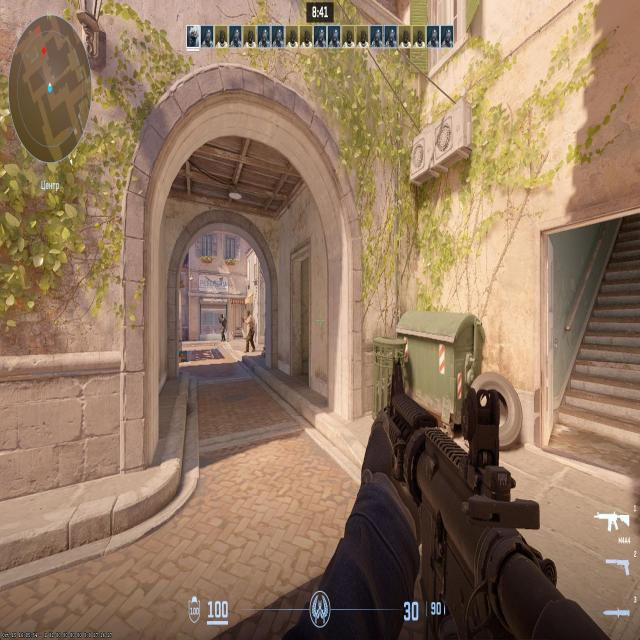CT: (220, 313, 225, 342)
CT_heat: (222, 314, 224, 319)
T: (247, 310, 253, 352)
T_heat: (248, 311, 250, 318)
